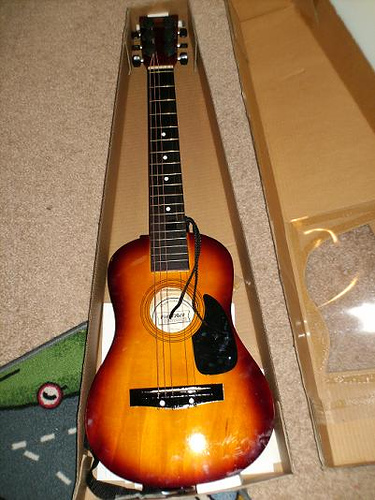guitar: (82, 12, 276, 488)
